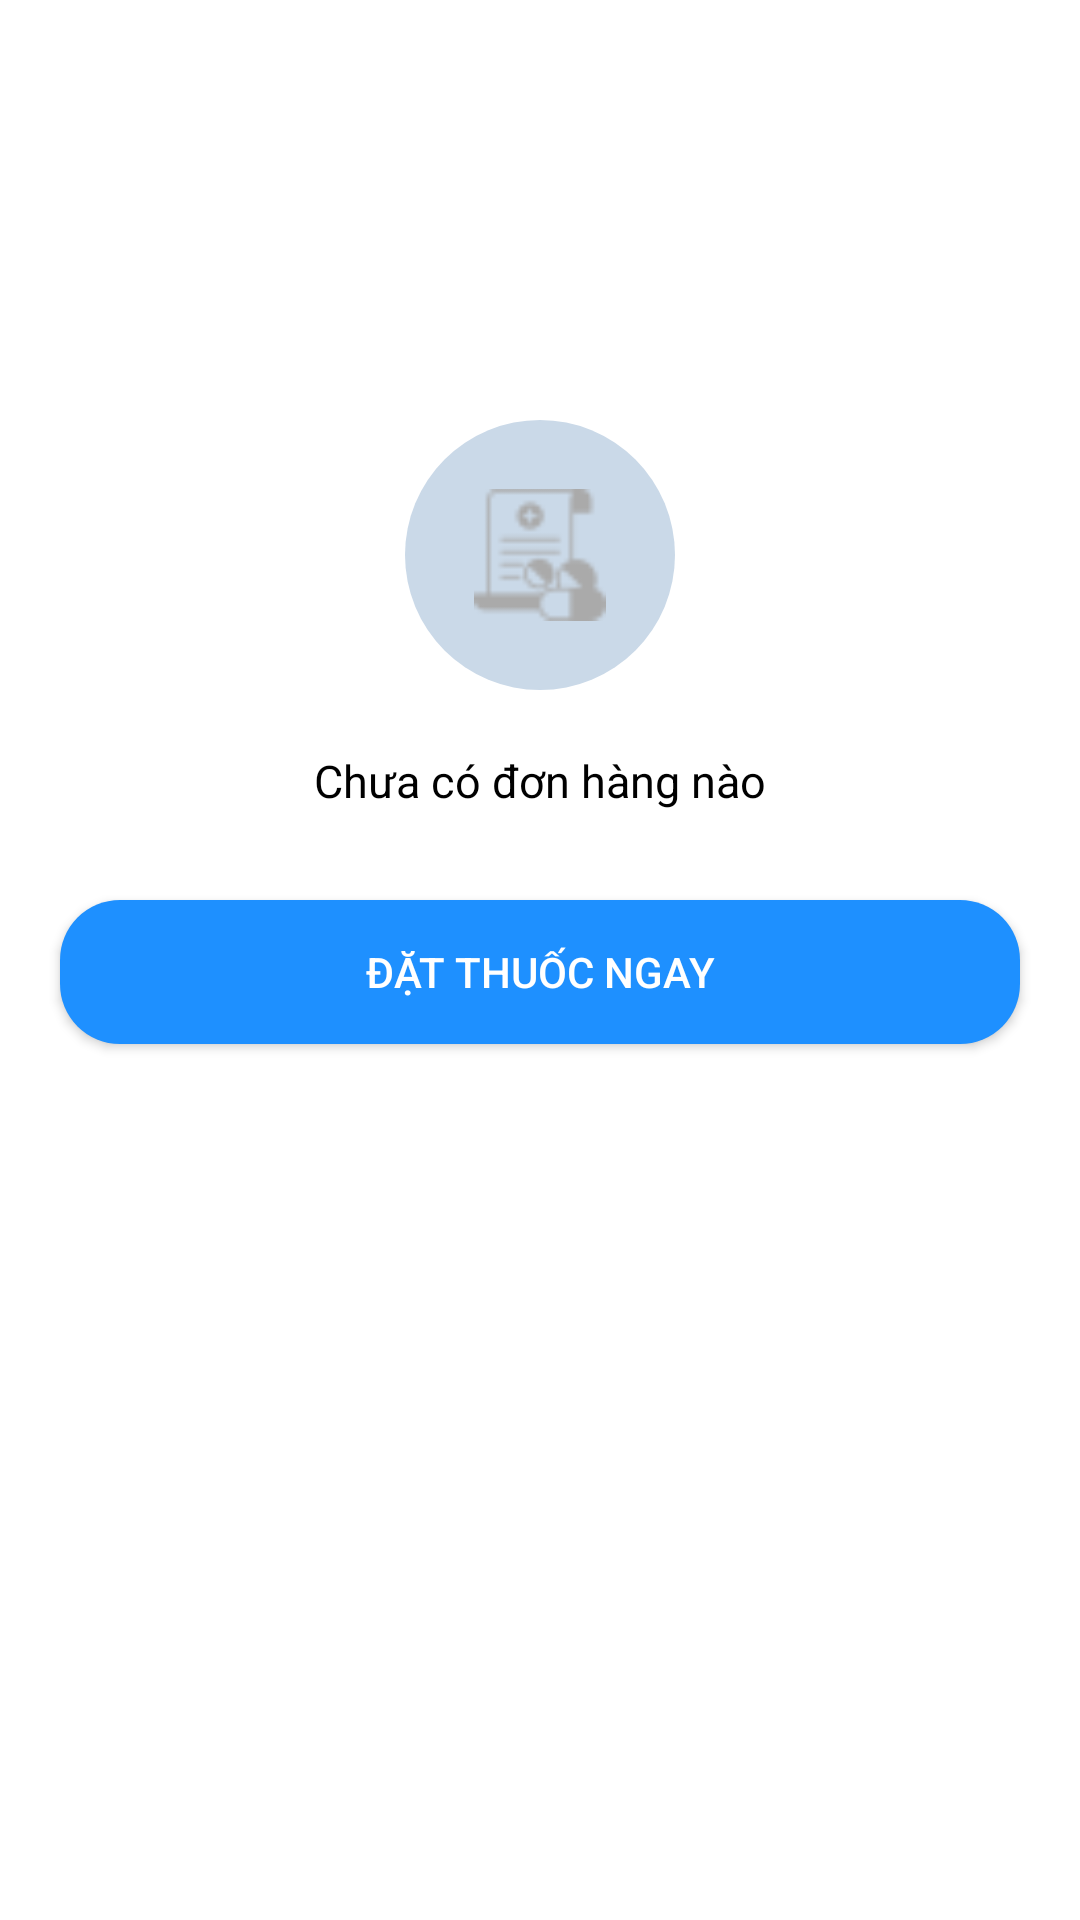

Where icons sit on this 1080px x 1920px app screen, as (x1, y1, x2, y2):
receipt: (405, 420, 675, 690)
